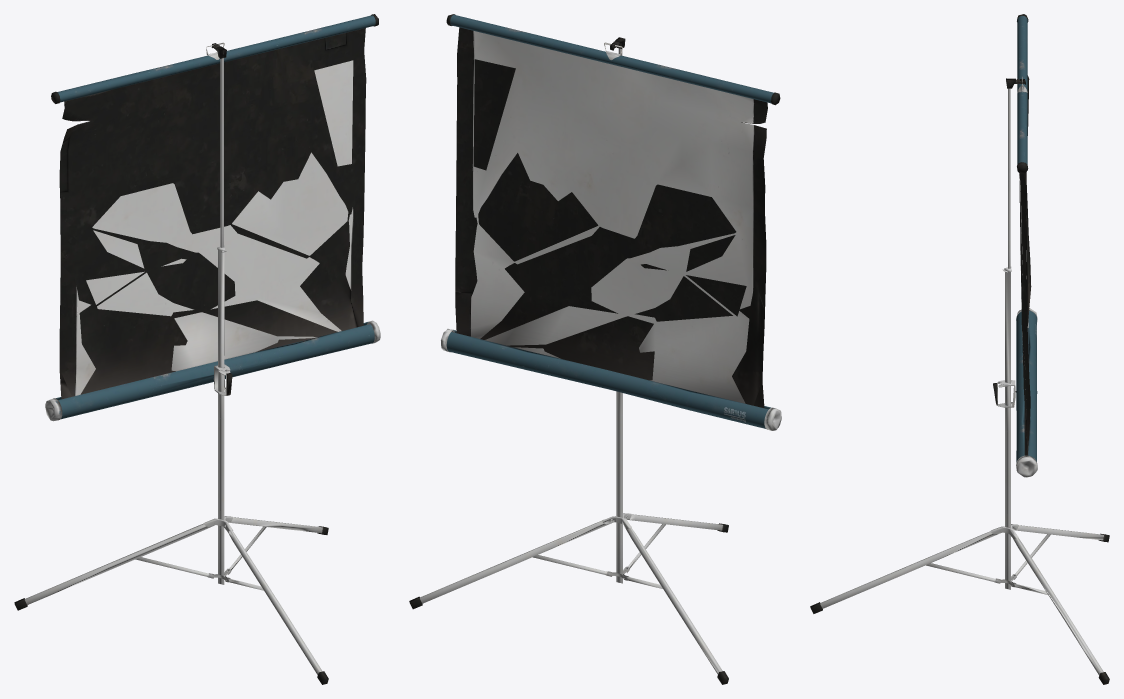
The model's file is projector_hq.glb.
3 renders of one model, left to right at view 1: azimuth 30°, elevation 25°; view 2: azimuth 150°, elevation 25°; view 3: azimuth 270°, elevation 25°, orthographic. The views are drawn at different scales.
Visible parts, largest first — view 1: projector_screen; view 2: projector_screen; view 3: projector_screen.
Part boxes in pixels (x1,y1,x2,y2): projector_screen: [14, 14, 380, 684]; projector_screen: [409, 14, 781, 684]; projector_screen: [810, 14, 1109, 684].
Bounding box in the file's own units: 1.09 × 1.8 × 0.9158.
Materials: 2 (2 with a texture image).
